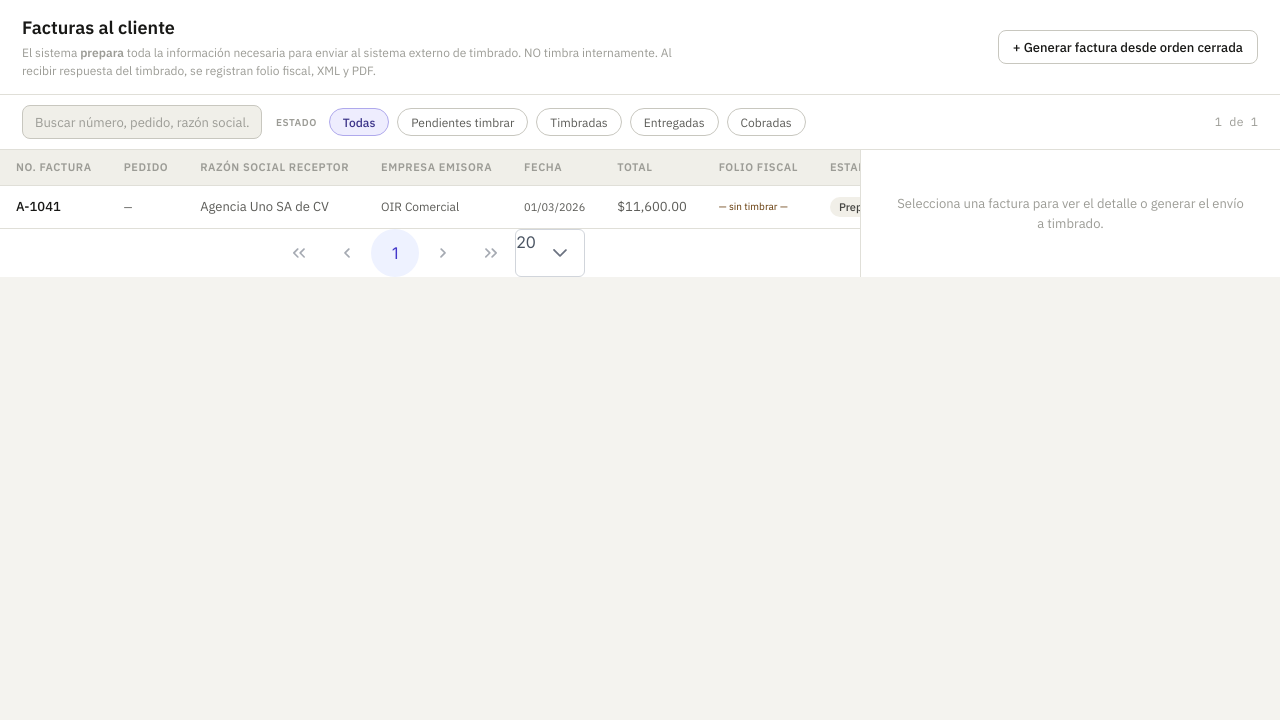
Test: FacturasClientePage › fix: muestra el folio de la orden del cliente en el header del detalle
Click the text "A-1041" at (54, 207), box top-left (0, 185), bottom-right (108, 228)
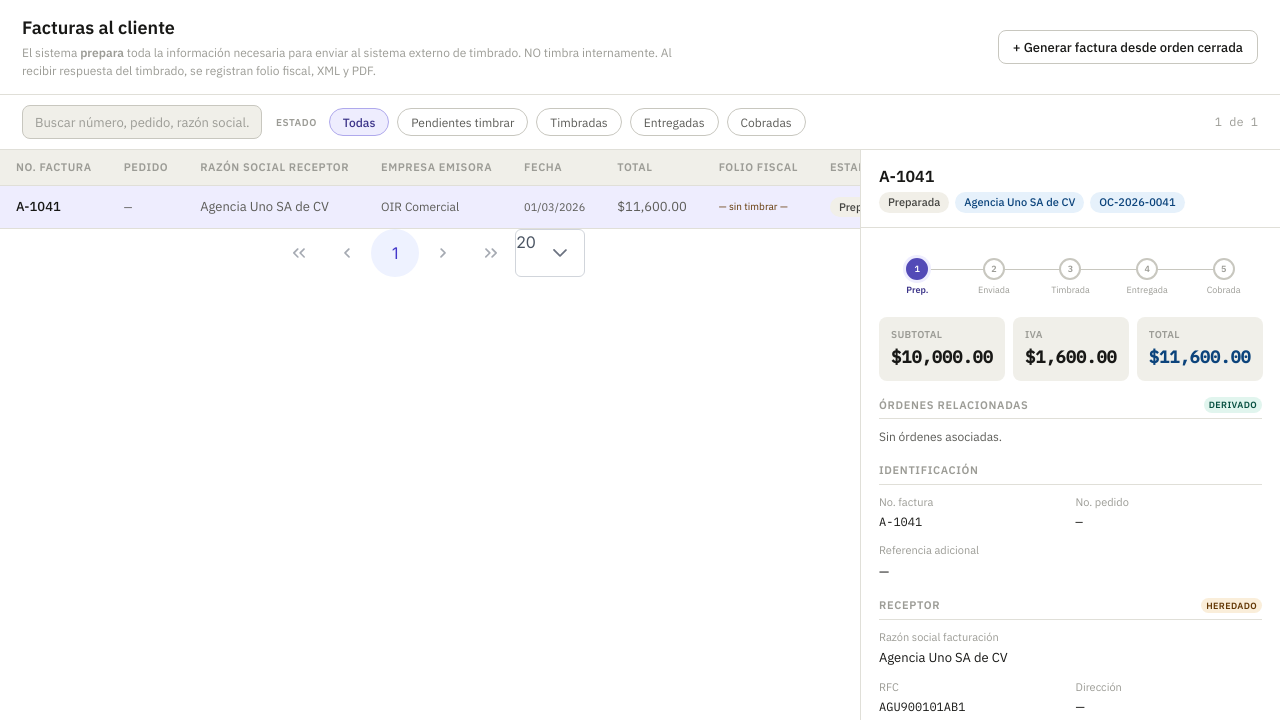
Check: the text "OC-2026-0041" is shown, box top-left (1090, 192), bottom-right (1185, 212)
